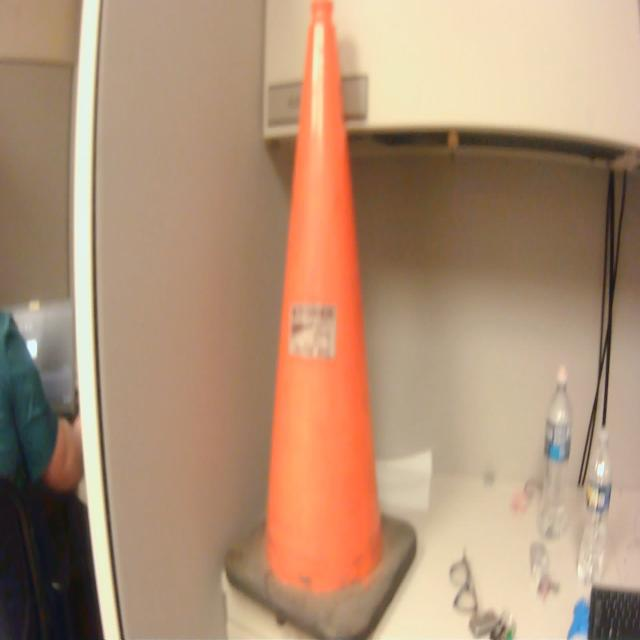traffic cone: (224, 1, 423, 640)
